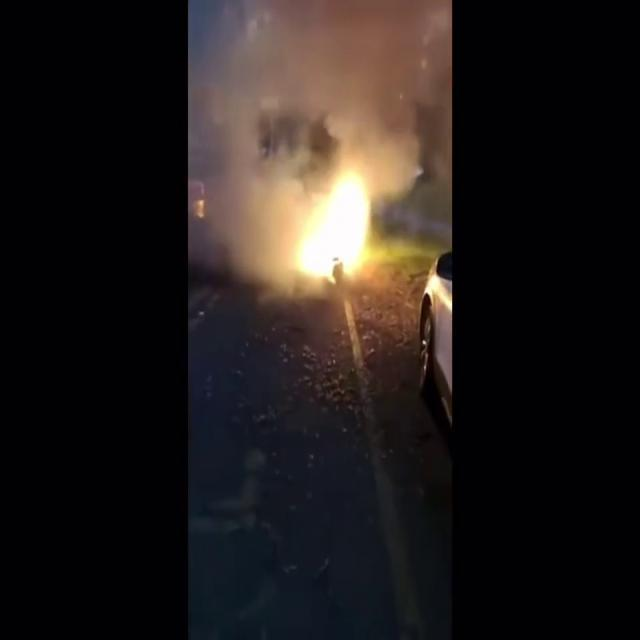Fire: (290, 160, 386, 284)
Smoke: (190, 0, 452, 163)
